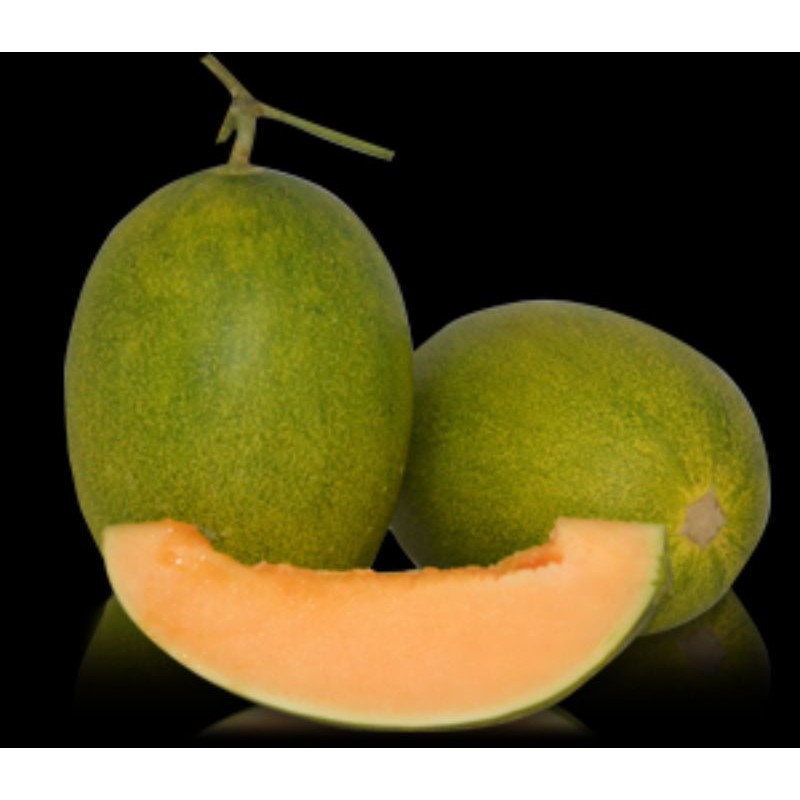Melon: (103, 502, 663, 716)
